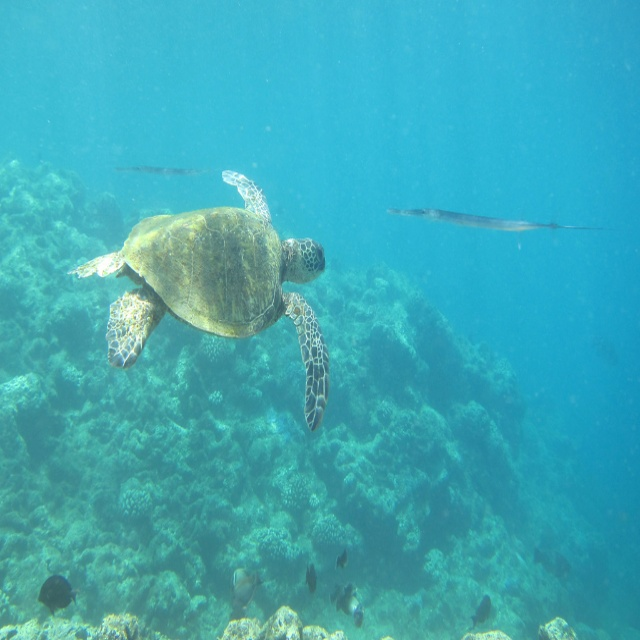Sea turtle: (68, 168, 330, 429)
